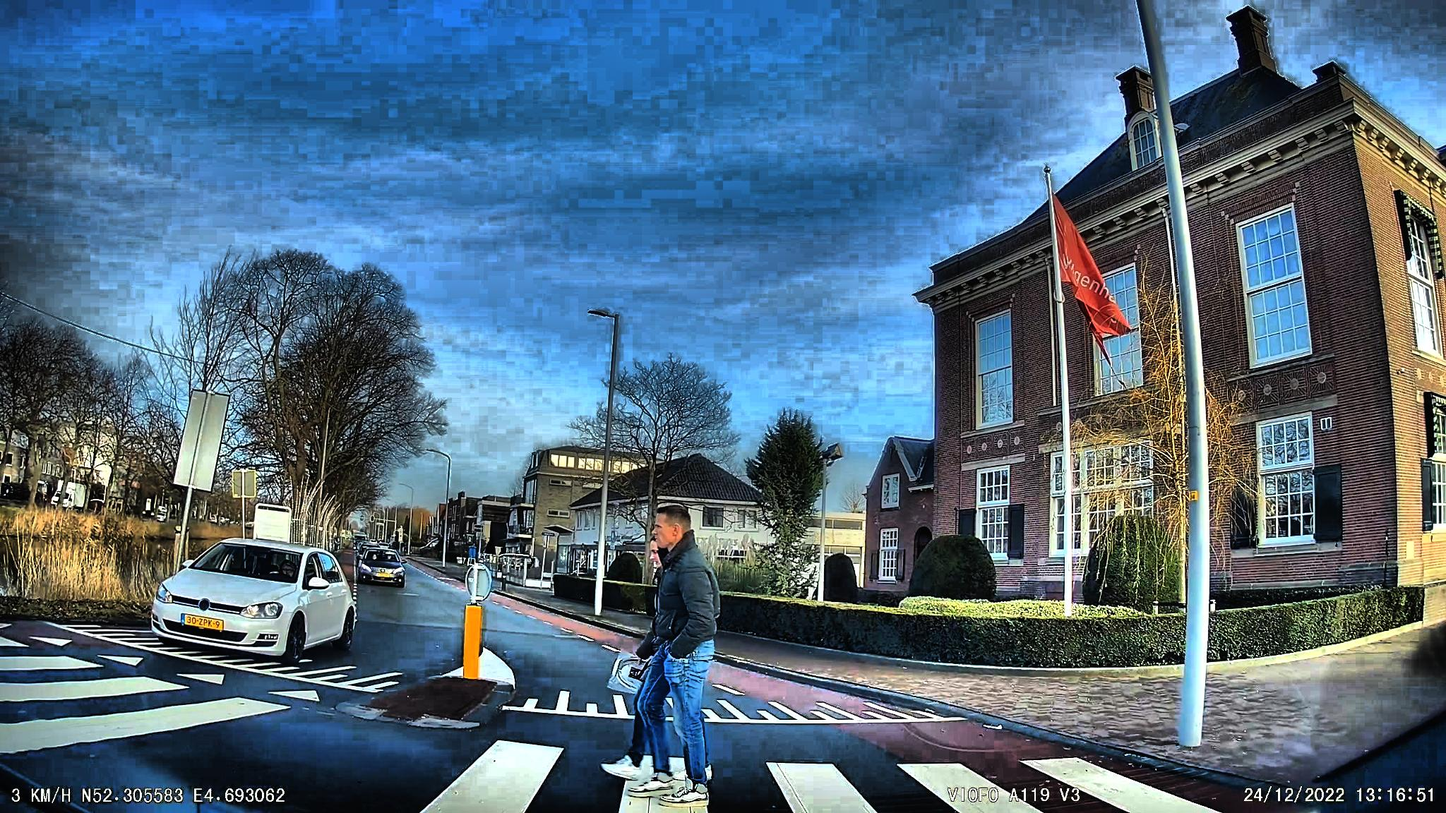Roads: (0, 584, 639, 813), (703, 664, 1221, 813)
